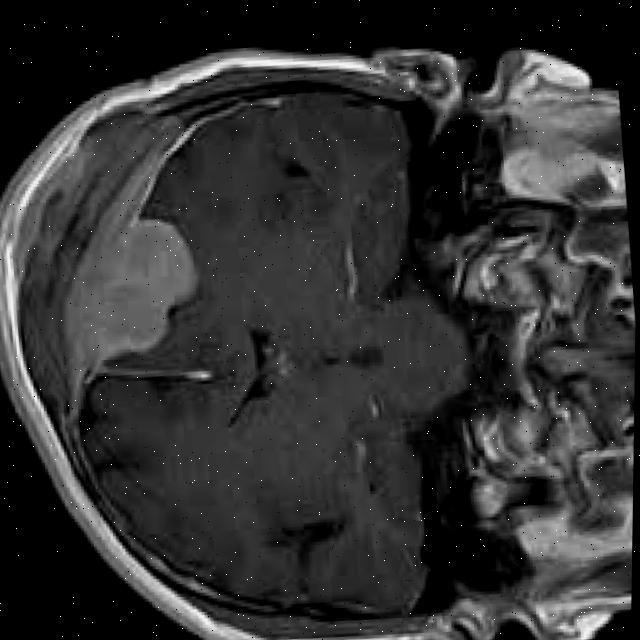Meningioma: (45, 149, 212, 410)
